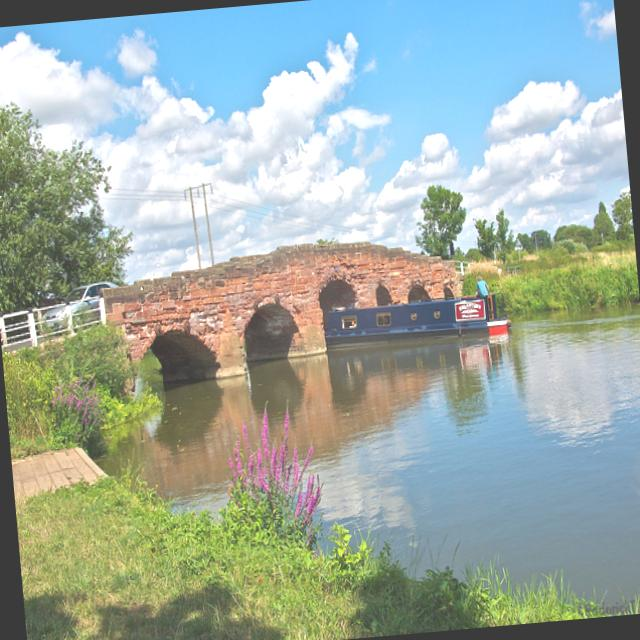Vehicle: (40, 280, 122, 336)
